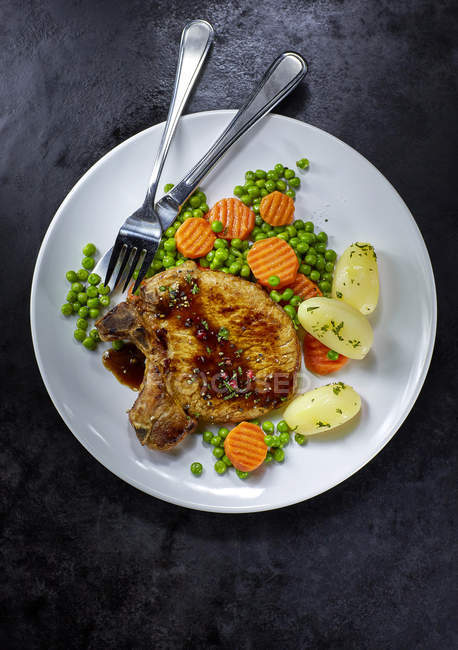boiled peas: (64, 267, 105, 319), (299, 231, 323, 276), (245, 170, 287, 188)
boiled potatoes: (300, 278, 377, 352), (294, 385, 358, 424)
